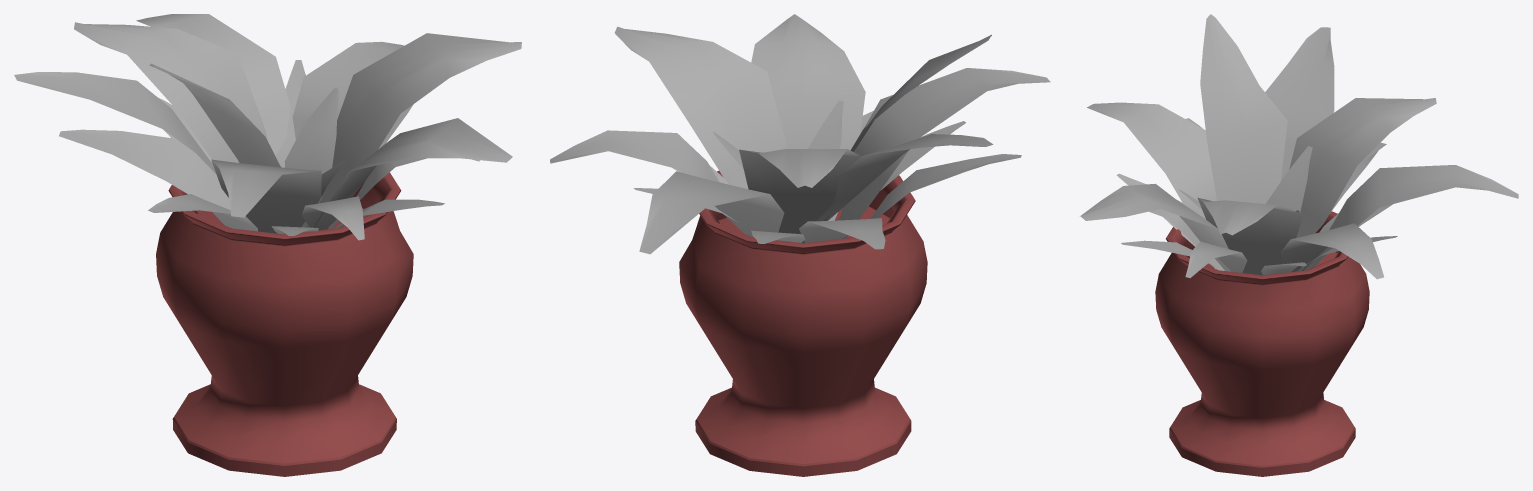
Rendered from SM-FlowerPot.fbx.
3 views of the same model, side by side, from view 1: azimuth 30°, elevation 25°; view 2: azimuth 150°, elevation 25°; view 3: azimuth 270°, elevation 25° (orthographic). The views are drawn at different scales.
Parts seen in each view (by area): view 1: SM_FlowerPot; view 2: SM_FlowerPot; view 3: SM_FlowerPot.
Part boxes in pixels (x1,y1,x2,y2): SM_FlowerPot: (14,14,521,476); SM_FlowerPot: (550,14,1050,476); SM_FlowerPot: (1080,14,1518,476).
Size of the model in its own units: 1.94 by 1.78 by 1.98.
